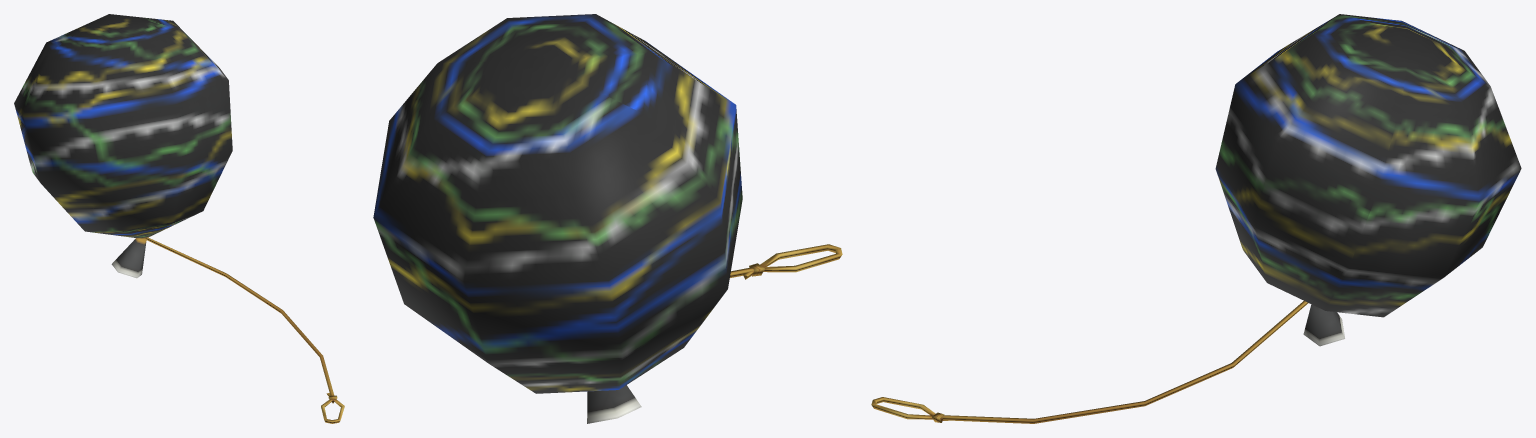
File: jsf_WaterBalloon_13_e.fbx
The picture shows the model from 3 angles, left to right: view 1: azimuth 30°, elevation 25°; view 2: azimuth 150°, elevation 25°; view 3: azimuth 270°, elevation 25°; orthographic projection. The views are drawn at different scales.
Visible parts, largest first — view 1: jsf_WaterBalloon_13_e; view 2: jsf_WaterBalloon_13_e; view 3: jsf_WaterBalloon_13_e.
Boxes of the visible parts, x1,y1,x2,y2 form: jsf_WaterBalloon_13_e: [14, 14, 344, 423]; jsf_WaterBalloon_13_e: [373, 14, 842, 423]; jsf_WaterBalloon_13_e: [871, 14, 1521, 423].
Size of the model in its own units: 10.92 by 14.38 by 23.6.
